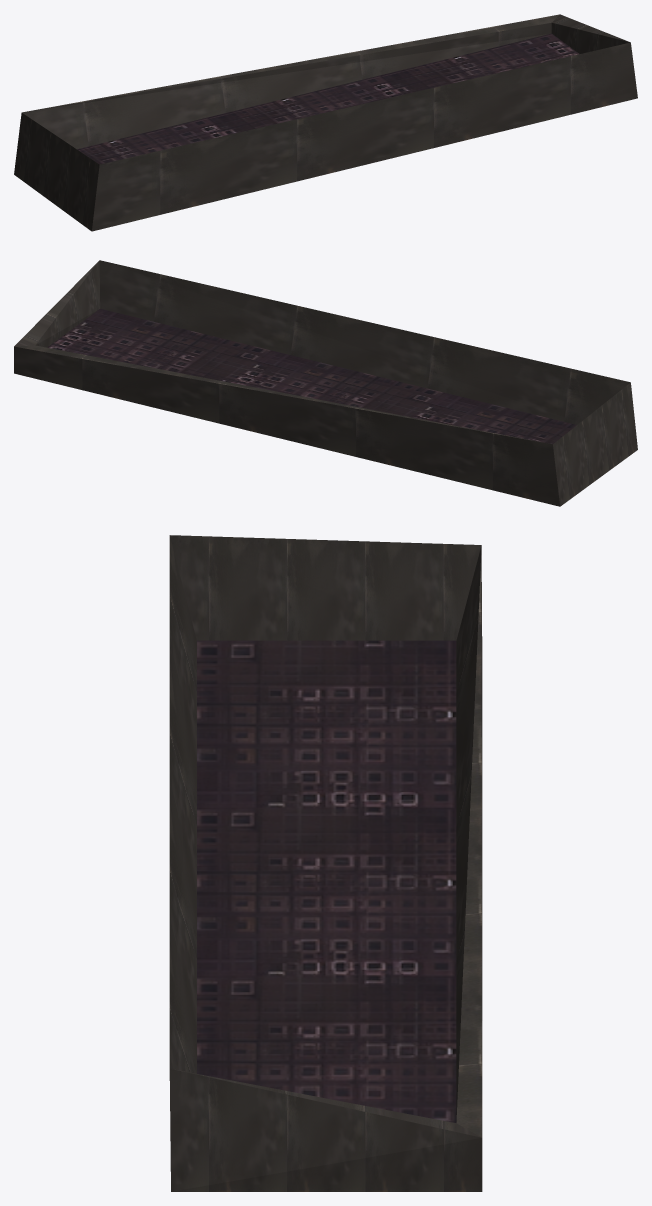
The model's file is rowhouseburned.gltf.
The picture shows the model from 3 angles, top to bottom: view 1: azimuth 30°, elevation 25°; view 2: azimuth 150°, elevation 25°; view 3: azimuth 270°, elevation 25°; orthographic projection. The views are drawn at different scales.
Visible parts, largest first — view 1: rowhouseburned_atomic0; view 2: rowhouseburned_atomic0; view 3: rowhouseburned_atomic0.
Part boxes in pixels (x1,y1,x2,y2): rowhouseburned_atomic0: [14, 14, 637, 231]; rowhouseburned_atomic0: [14, 260, 637, 506]; rowhouseburned_atomic0: [169, 535, 482, 1191].
Size of the model in its own units: 62.39 by 7.14 by 15.46.
2 materials, 2 textured.
